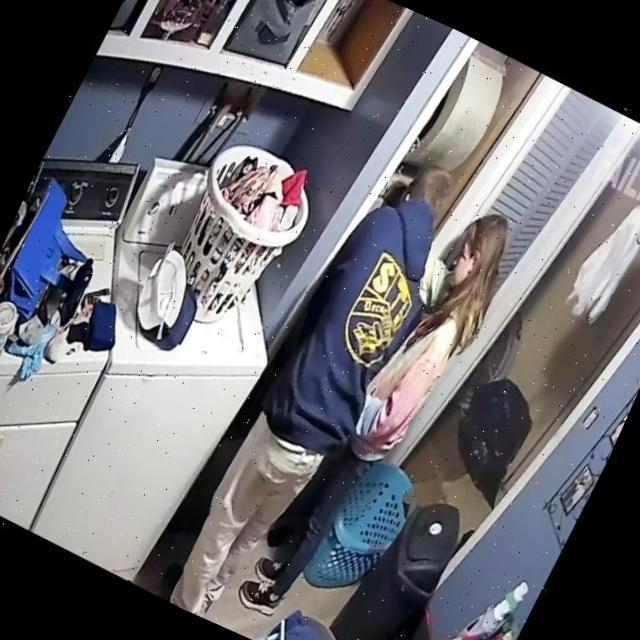person: (154, 131, 480, 640), (233, 181, 527, 640)
